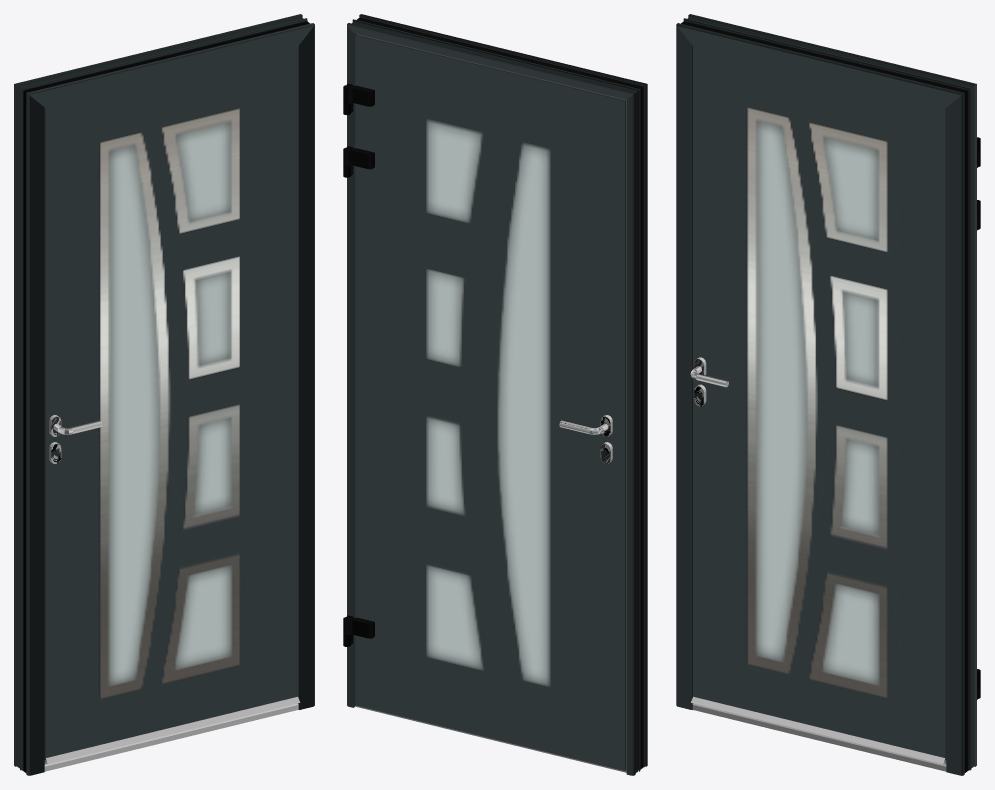
3 renders of one model, left to right at view 1: azimuth 30°, elevation 25°; view 2: azimuth 150°, elevation 25°; view 3: azimuth 330°, elevation 25°, orthographic.
Parts seen in each view (by area): view 1: ouvrant, 85; view 2: ouvrant, 85; view 3: ouvrant, 85.
Boxes of the visible parts, box(x1,y1,x2,y2) form: ouvrant: box(44, 46, 300, 764); 85: box(14, 14, 314, 775); ouvrant: box(343, 34, 626, 770); 85: box(343, 14, 647, 775); ouvrant: box(691, 46, 980, 764); 85: box(676, 14, 980, 775).
Bounding box in the file's own units: 96 × 218 × 22.64.
Materials: 1 (1 with a texture image).
